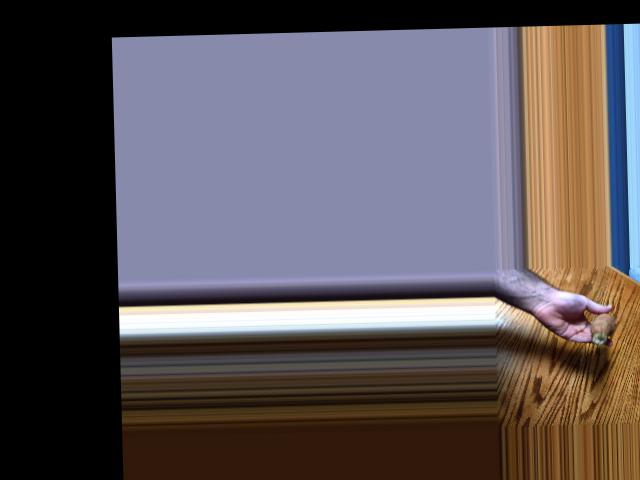sweet_potato: (590, 308, 626, 345)
